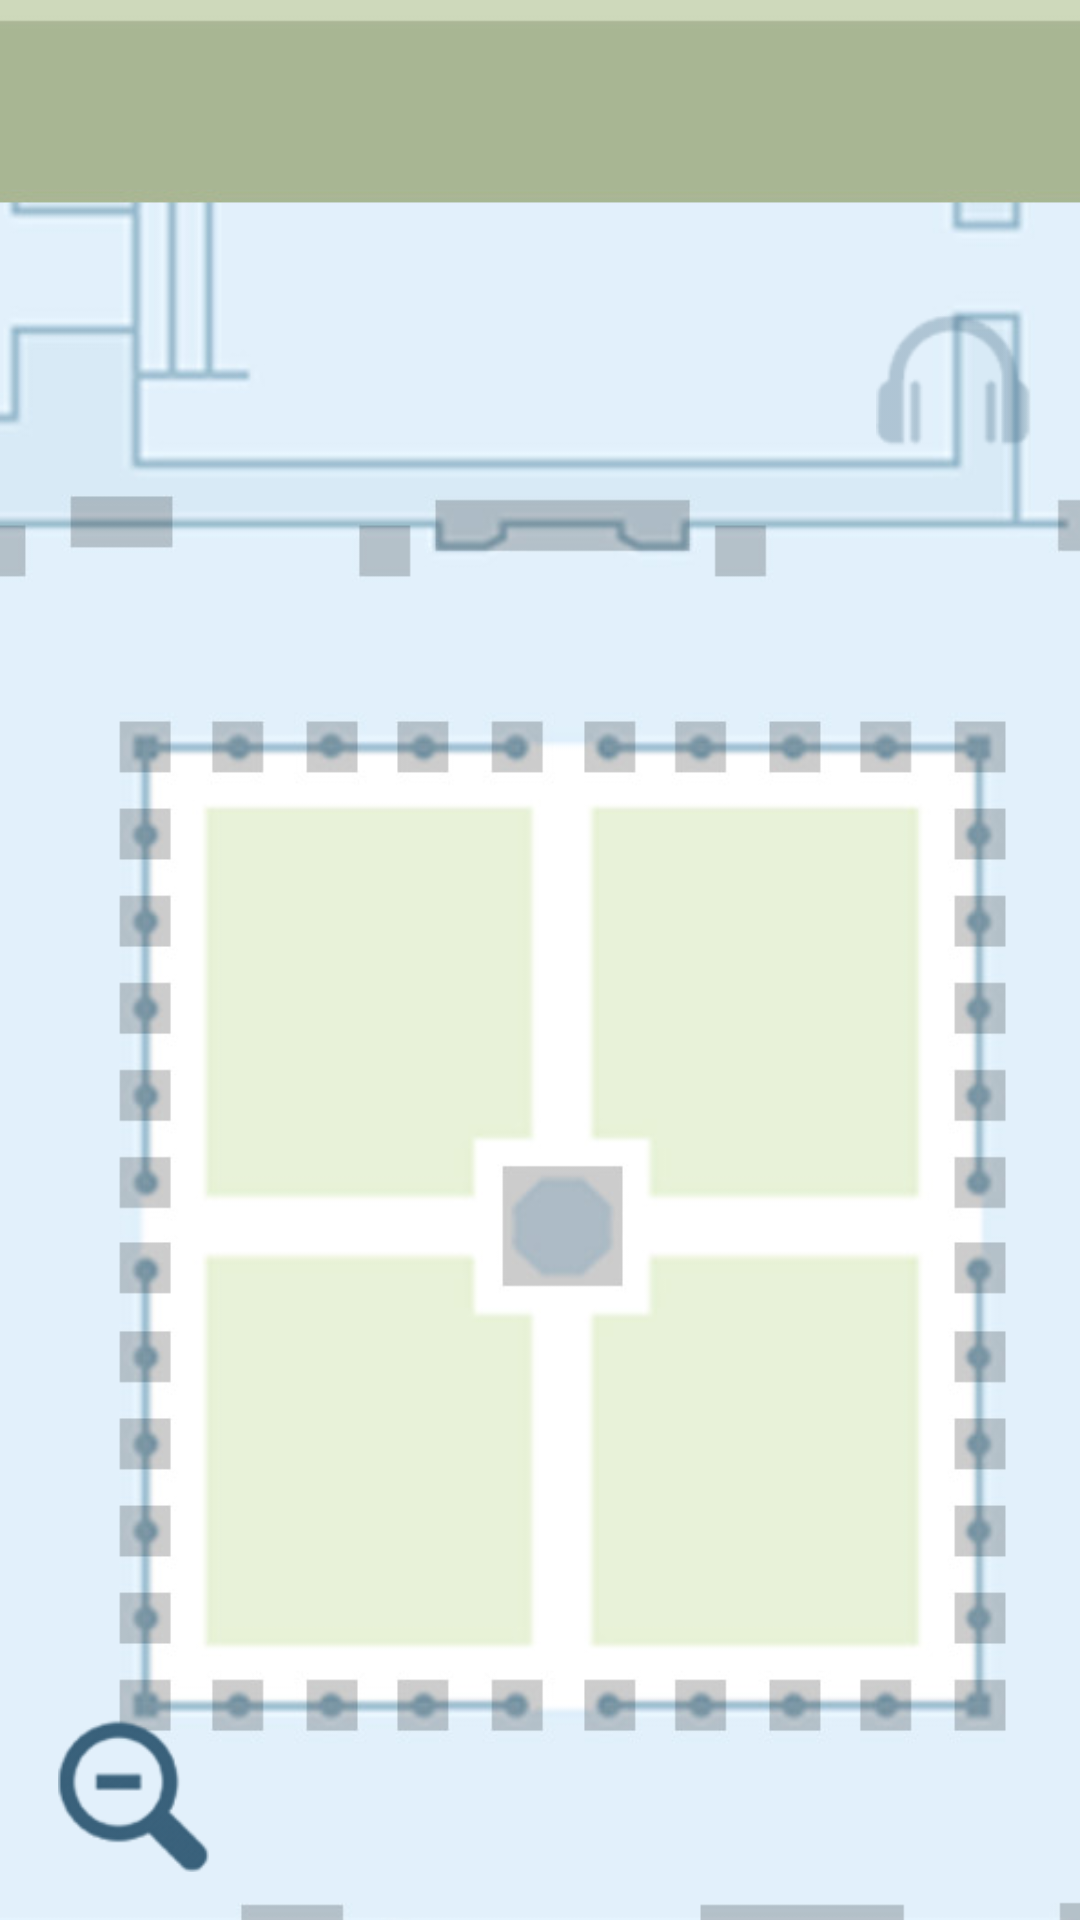

Screen size 1080*1920. Icon name, then its center in pixels as (x,y):
Podcast Inactive: (953,379)
Zoom Out: (138,1795)
